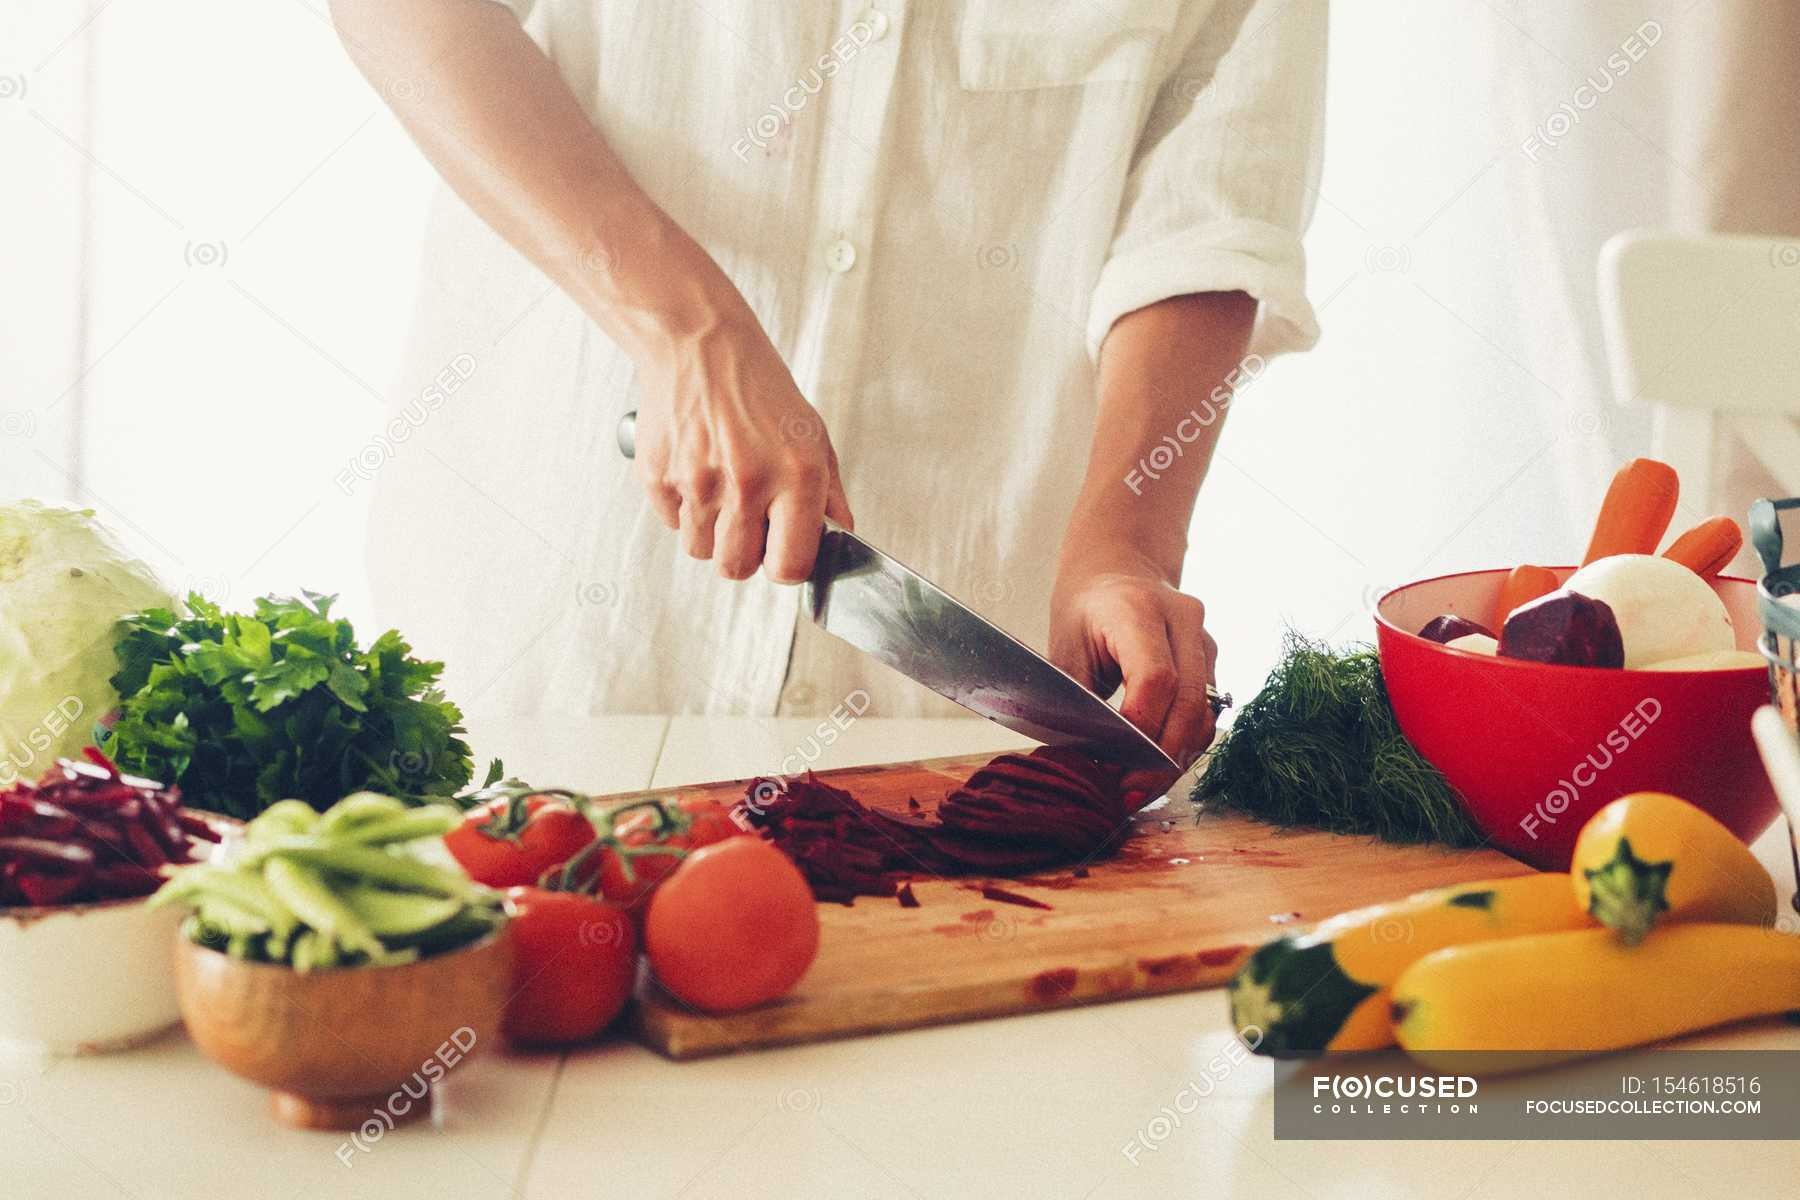knife: (613, 404, 1189, 783)
